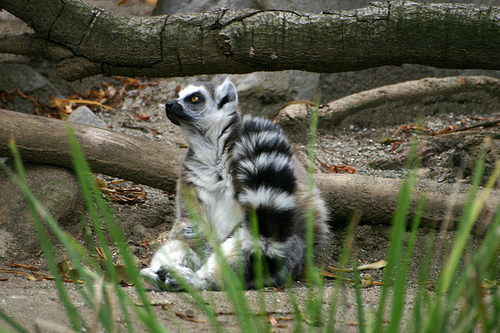cat: (137, 75, 333, 291)
